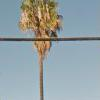Palm tree: (14, 0, 68, 98)
